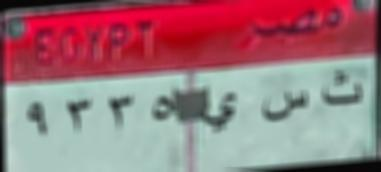3: (104, 88, 138, 138), (64, 96, 94, 138)
5: (149, 90, 175, 126)
9: (22, 92, 50, 140)
seen: (256, 81, 312, 124)
thaa: (318, 68, 366, 110)
yaa: (193, 87, 238, 136)
